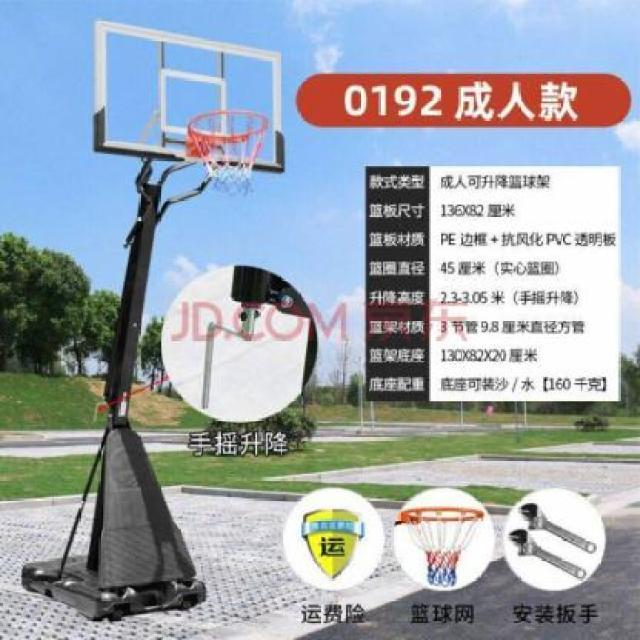rim: (187, 110, 269, 196), (400, 505, 484, 587)
